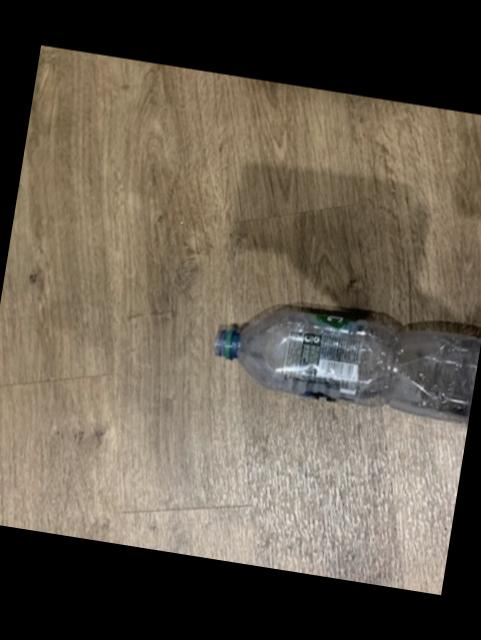plastic: (211, 303, 481, 421)
